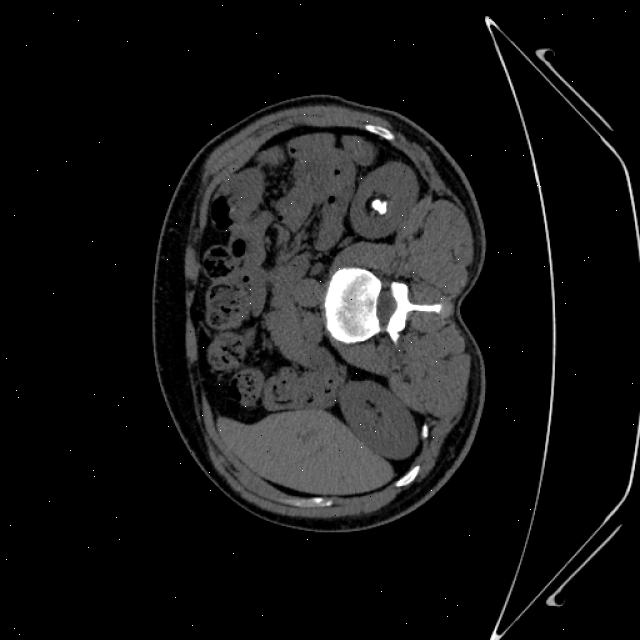kidneystone: (368, 196, 388, 215)
